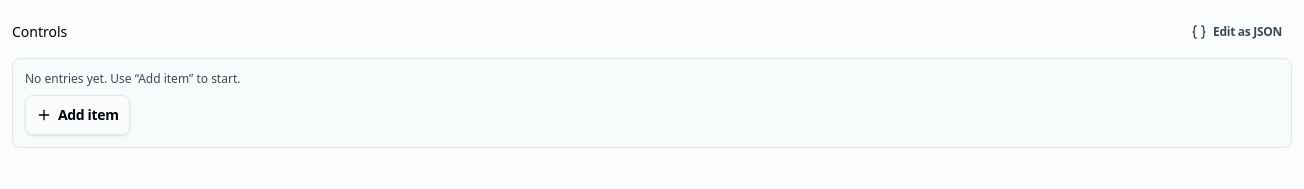
Test: StringListField › round-trips through the raw-JSON escape hatch
Click the button "Edit as JSON" at (1237, 32), box [1181, 12, 1292, 52]
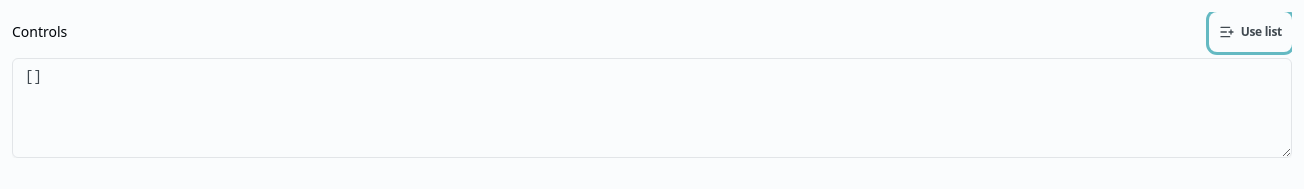
Type "[ [\"slow addition\"]" into the text box named "Controls (raw JSON)" at (652, 108), box [12, 58, 1292, 158]
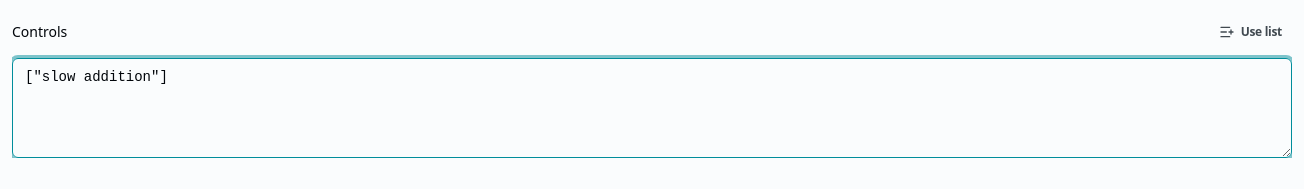
Click the button "Use list" at (1250, 32), box [1209, 12, 1292, 52]
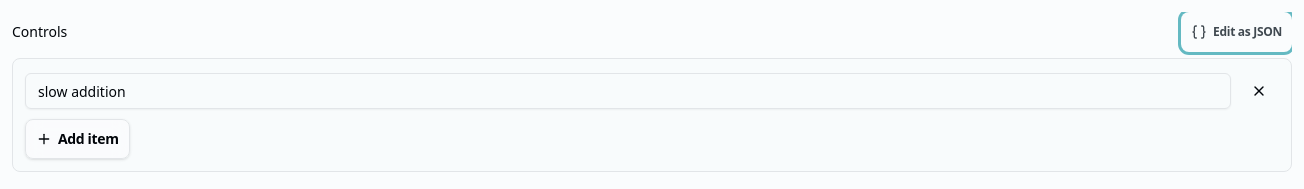
Expected: the field showing "slow addition" is shown, [25, 73, 1231, 109]
